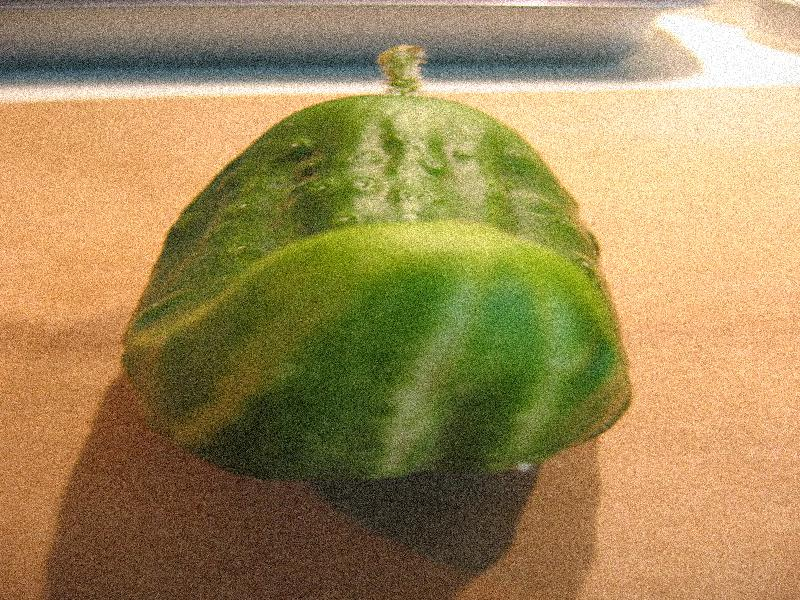Cucumber: (126, 43, 636, 482)
